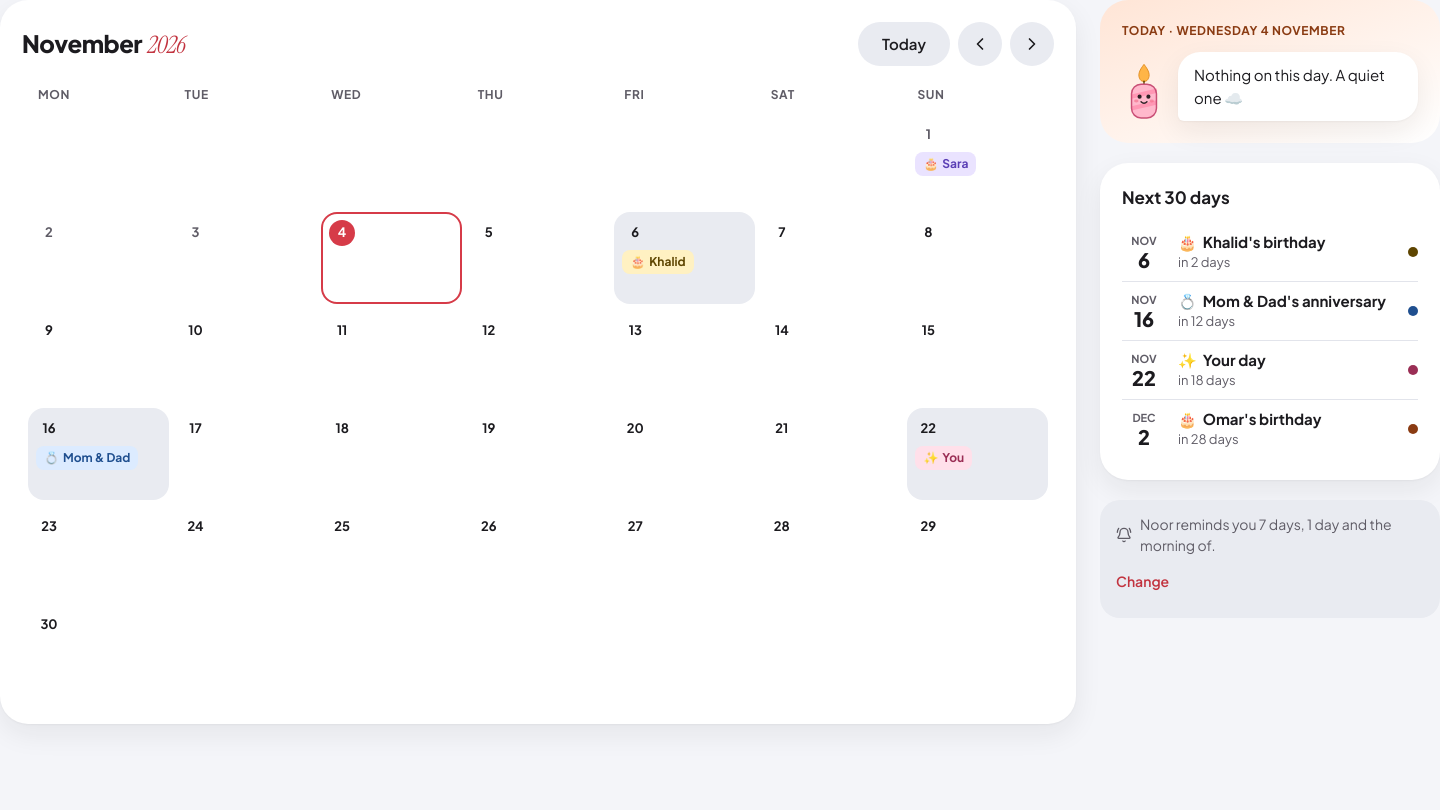
Calendar › clicking a day selects it, shows its details and puts it in the URL
Click the cell named "Monday 16 November" at (98, 454), box [28, 408, 169, 500]
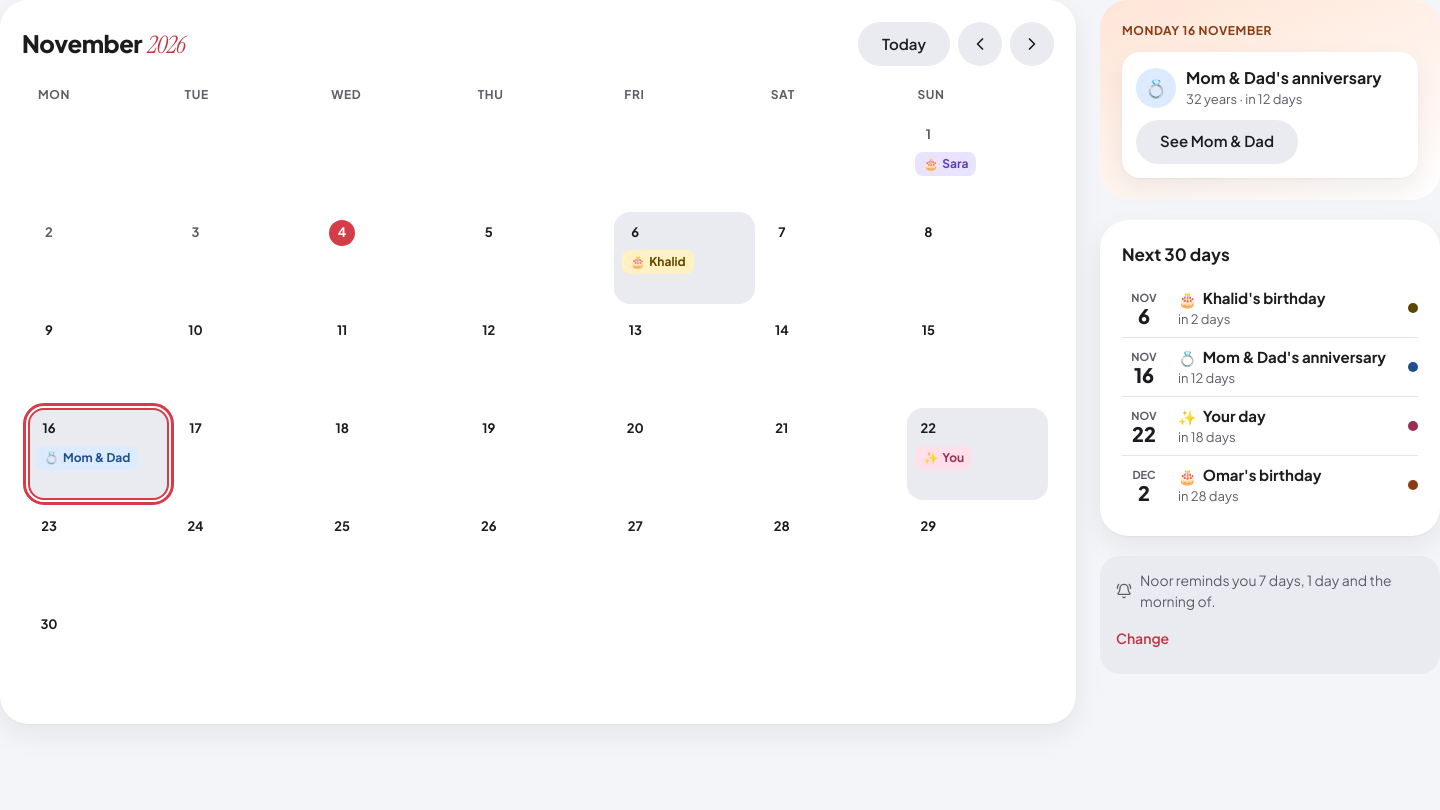
Now the text "Mom & Dad's anniversary" is shown, box [1186, 66, 1382, 90]
Now the text "32 years · in 12 days" is shown, box [1186, 91, 1302, 107]
